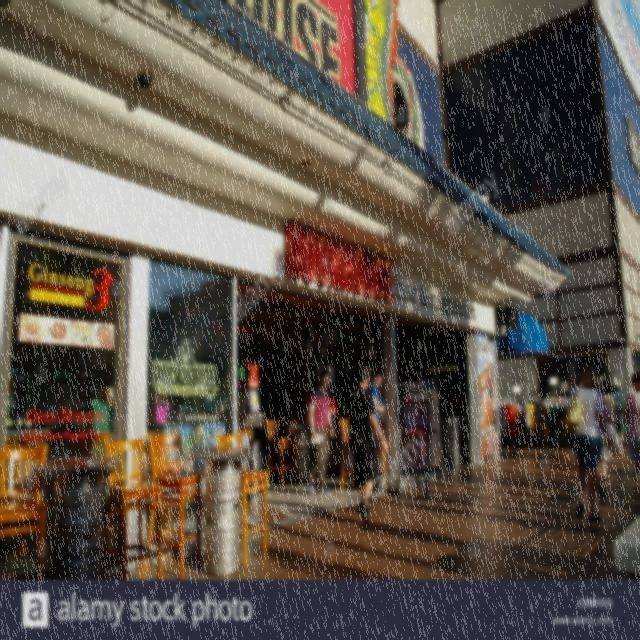pessoa: (561, 364, 612, 523), (347, 362, 390, 526), (304, 368, 336, 496), (72, 375, 114, 457), (595, 396, 618, 497), (622, 372, 640, 484), (367, 372, 385, 478), (145, 384, 175, 434), (608, 380, 628, 450), (63, 367, 92, 408), (107, 372, 115, 433)
